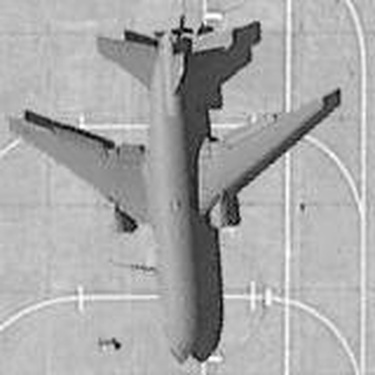airplane: (4, 15, 350, 368)
